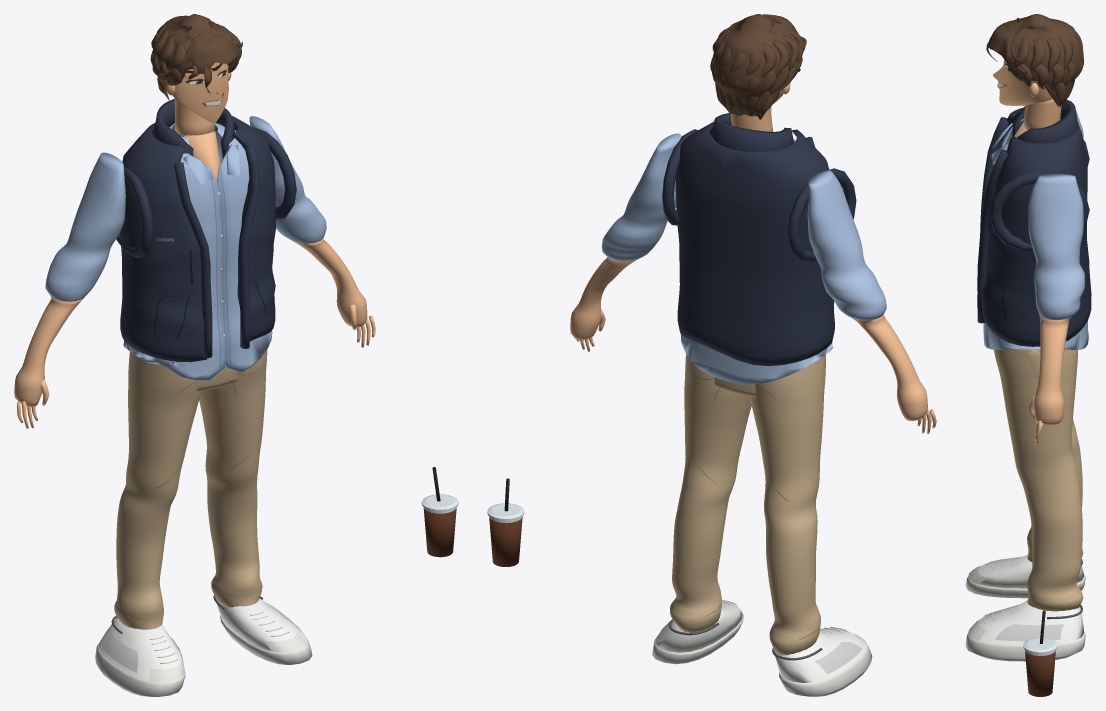
The model's file is techbro-apose.glb.
3 views of the same model, side by side, from view 1: azimuth 30°, elevation 25°; view 2: azimuth 150°, elevation 25°; view 3: azimuth 270°, elevation 25° (orthographic). The views are drawn at different scales.
Parts seen in each view (by area): view 1: torso, legs, arm_L, head, arm_R, cup; view 2: legs, torso, arm_L, head, arm_R, cup; view 3: legs, torso, arm_R, head, cup.
Part boxes in pixels (left/top/right/bottom): torso: left=116, top=99, right=296, bottom=380; legs: left=95, top=349, right=312, bottom=696; arm_L: left=14, top=152, right=125, bottom=428; head: left=150, top=14, right=242, bottom=136; arm_R: left=249, top=116, right=375, bottom=347; cup: left=421, top=467, right=458, bottom=557; legs: left=652, top=354, right=872, bottom=696; torso: left=662, top=113, right=856, bottom=384; arm_L: left=807, top=170, right=936, bottom=433; head: left=710, top=14, right=806, bottom=131; arm_R: left=570, top=133, right=681, bottom=351; cup: left=487, top=478, right=524, bottom=566; legs: left=965, top=348, right=1085, bottom=661; torso: left=977, top=100, right=1091, bottom=349; arm_R: left=1028, top=174, right=1084, bottom=444; head: left=986, top=14, right=1083, bottom=129; cup: left=1023, top=610, right=1057, bottom=696.
Size of the model in its own units: 1.29 by 1.8 by 0.3405.
Materials: 16 (5 with a texture image).
